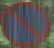No waiting: (1, 4, 49, 46)
